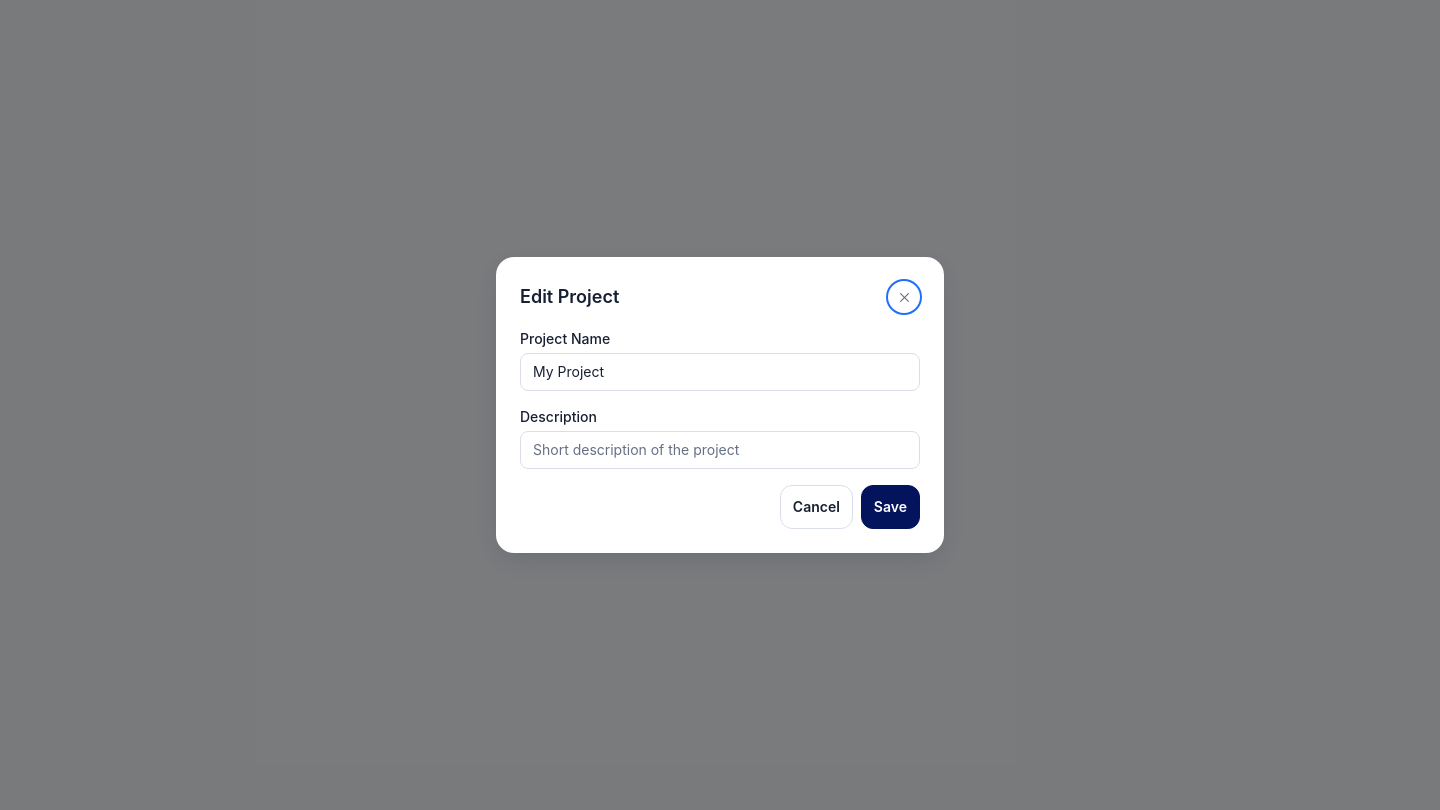
Test: EditProjectDialog › shows fallback error message when updateProject fails with non-Error
Click the button "Save".
click(890, 507)  # box [861, 485, 920, 529]
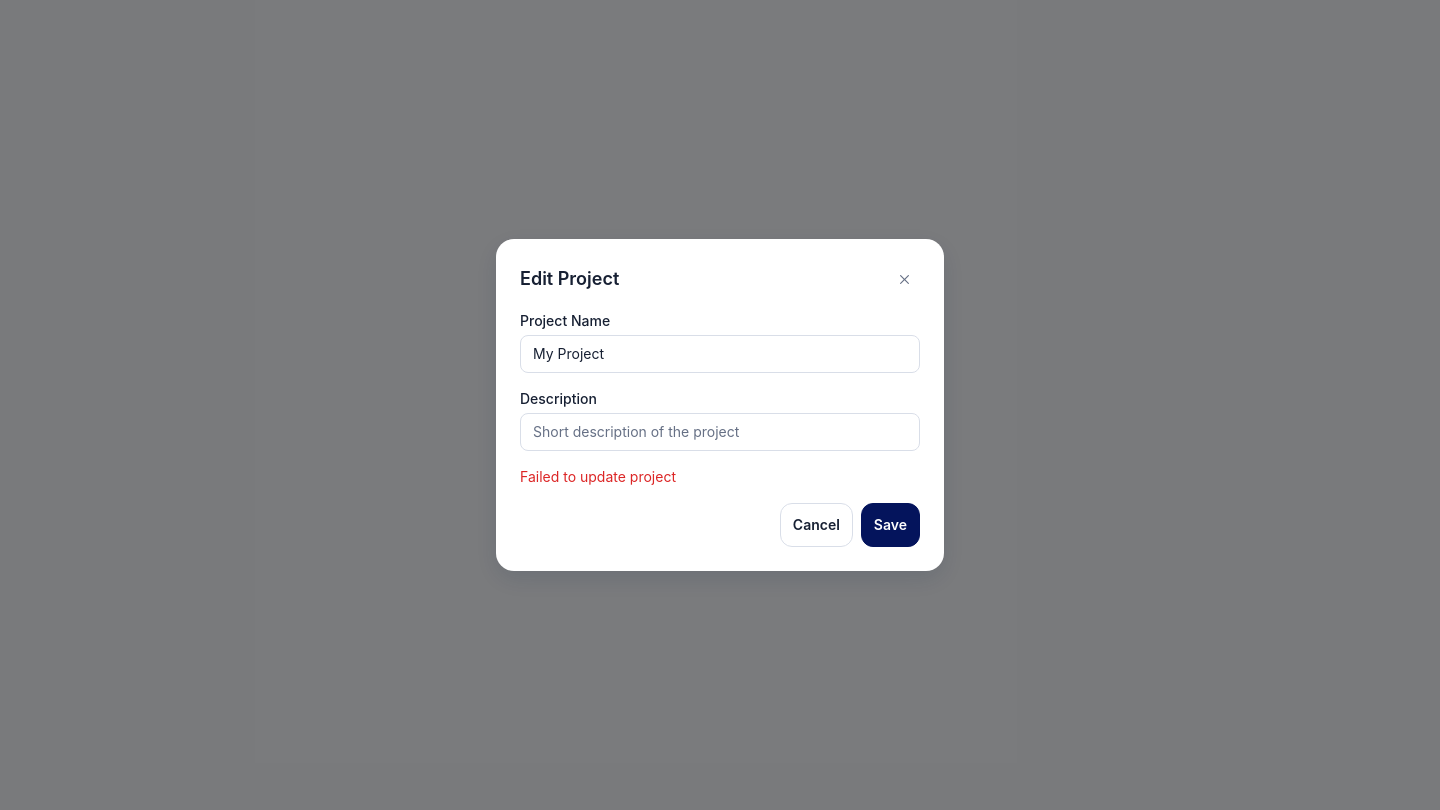
Now the text "Failed to update project" is shown, box [520, 468, 676, 485]
